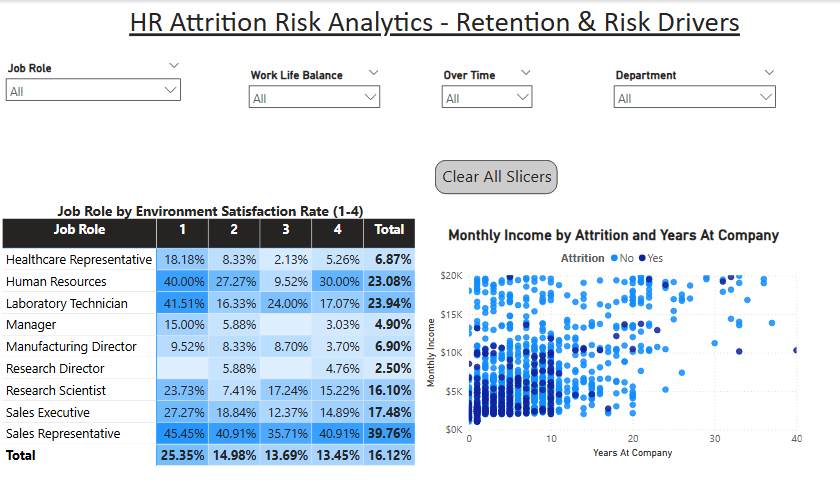

This screenshot's page, from the dashboard's own definition file:
{"tool":"powerbi","page":{"name":"Retention & Risk Drivers","canvas":[1280,720],"ordinal":1},"visuals":[{"type":"pivotTable","title":"Job Role by Environment Satisfaction Rate (1-4)","fields":{"Rows":["hr_employee_attrition_processed.JobRole"],"Columns":["hr_employee_attrition_processed.EnvironmentSatisfaction"],"Values":["_Measures.Attrition Rate"]},"box":[0,285,621.7,435],"z":0},{"type":"scatterChart","title":"Monthly Income by Attrition and Years At Company","fields":{"Y":["Sum(hr_employee_attrition_processed.MonthlyIncome)"],"X":["Sum(hr_employee_attrition_processed.YearsAtCompany)"],"Series":["hr_employee_attrition_processed.Attrition"]},"box":[621.7,323.3,563.3,360],"z":1000},{"type":"slicer","fields":{"Values":["hr_employee_attrition_processed.Department"]},"box":[893.3,90,258.3,143.3],"z":2000},{"type":"slicer","fields":{"Values":["hr_employee_attrition_processed.JobRole"]},"box":[0,80,276.7,81.7],"z":3000},{"type":"slicer","fields":{"Values":["hr_employee_attrition_processed.WorkLifeBalance"]},"box":[356.7,90,213.3,143.3],"z":4000},{"type":"slicer","fields":{"Values":["hr_employee_attrition_processed.OverTime"]},"box":[640,90,153.3,115],"z":5000},{"type":"textbox","box":[0,0,1280,80.6],"z":6000},{"type":"actionButton","title":"Clear All Slicers","box":[640,235,180,50],"z":7000}]}

Visuals, with their boxes in screenshot pixels (x1, y1, x2, y2), scaled from the page's 1280x720 canvas onto the 840x483 screenshot:
"Job Role by Environment Satisfaction Rate (1-4)" pivotTable: l=0, t=191, r=408, b=482
"Monthly Income by Attrition and Years At Company" scatterChart: l=408, t=217, r=778, b=458
slicer - hr_employee_attrition_processed.Department: l=586, t=60, r=756, b=157
slicer - hr_employee_attrition_processed.JobRole: l=0, t=54, r=182, b=108
slicer - hr_employee_attrition_processed.WorkLifeBalance: l=234, t=60, r=374, b=157
slicer - hr_employee_attrition_processed.OverTime: l=420, t=60, r=521, b=138
textbox: l=0, t=0, r=839, b=54
"Clear All Slicers" actionButton: l=420, t=158, r=538, b=191
